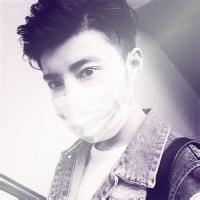OK: (46, 55, 133, 142)
